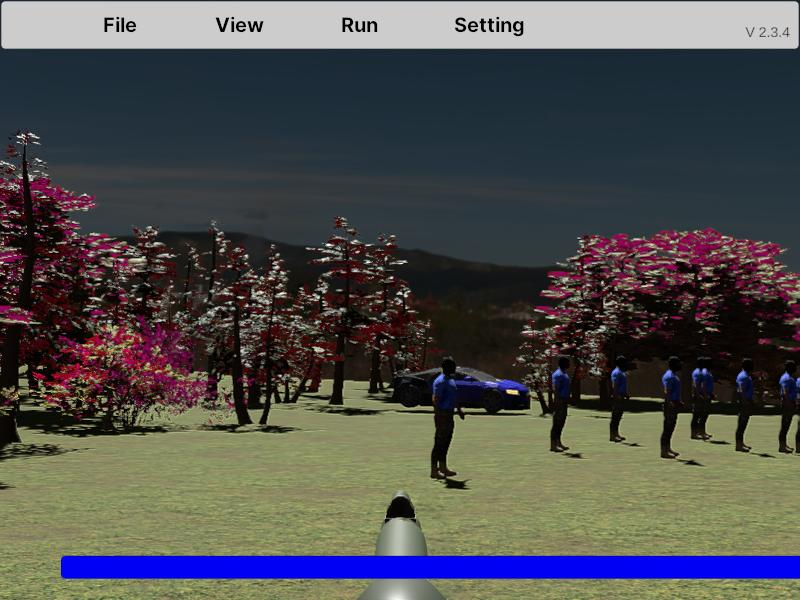Human: (431, 371, 465, 478), (660, 355, 685, 458), (660, 356, 685, 457), (550, 354, 574, 451), (735, 357, 757, 451), (777, 360, 799, 454), (777, 361, 799, 454), (692, 356, 716, 439), (609, 354, 630, 442), (789, 360, 800, 453), (791, 357, 800, 456), (794, 359, 800, 457)
car: (393, 366, 531, 413)
